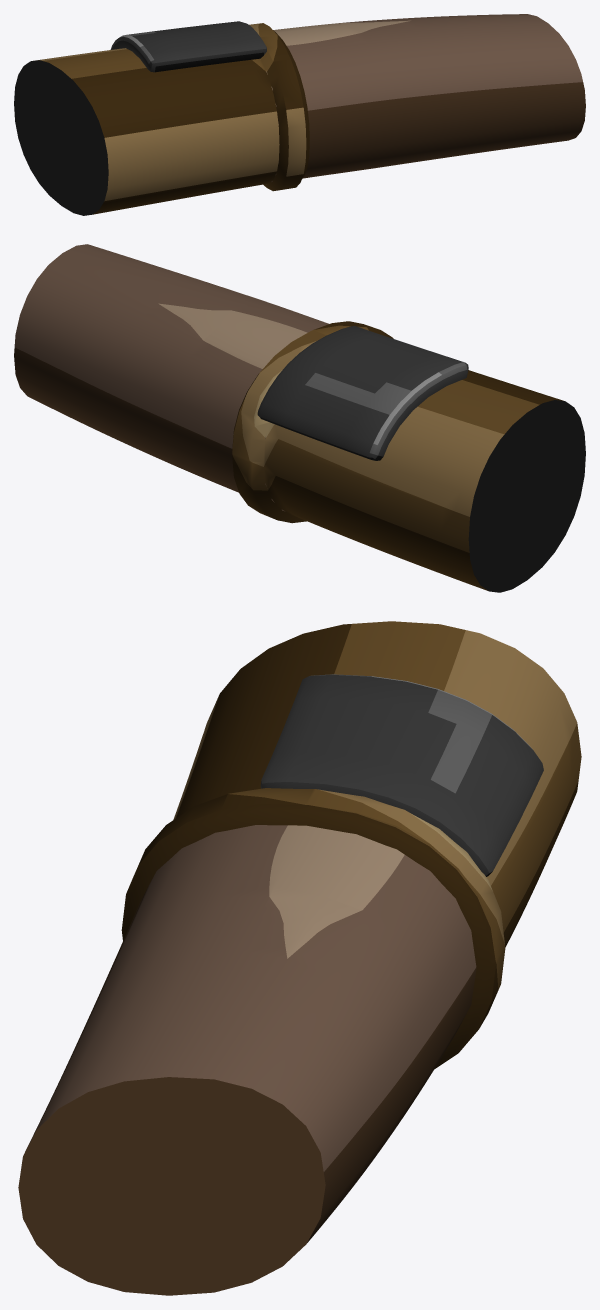
The model's file is tusk_arm_a_193.glb.
The picture shows the model from 3 angles, top to bottom: view 1: azimuth 30°, elevation 25°; view 2: azimuth 150°, elevation 25°; view 3: azimuth 270°, elevation 25°; orthographic projection. The views are drawn at different scales.
Visible parts, largest first — view 1: tusk_arm_a_193; view 2: tusk_arm_a_193; view 3: tusk_arm_a_193.
Part boxes in pixels (left/top/right/bottom): tusk_arm_a_193: left=14, top=14, right=585, bottom=215; tusk_arm_a_193: left=14, top=244, right=585, bottom=592; tusk_arm_a_193: left=18, top=621, right=581, bottom=1295.
Size of the model in its own units: 24 by 7.93 by 13.57.
